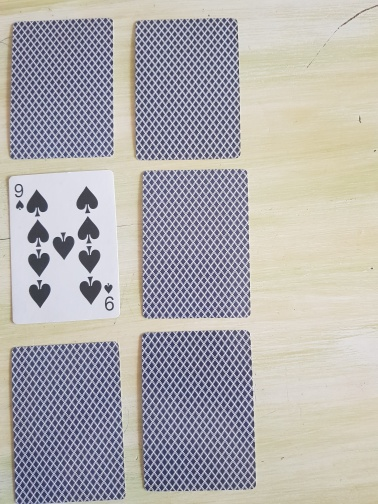nine: (8, 170, 121, 325)
